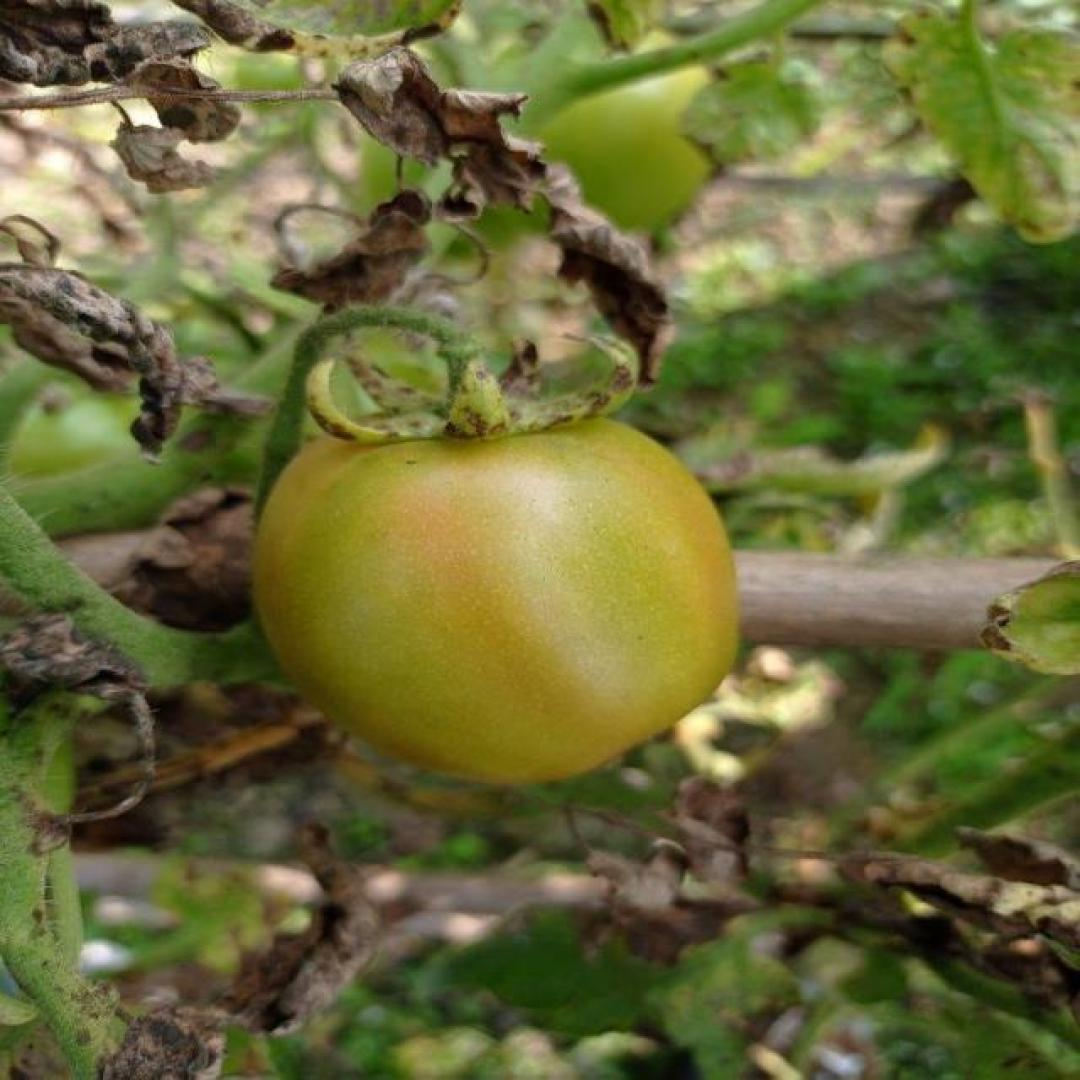setengah_matang: (246, 399, 741, 786)
